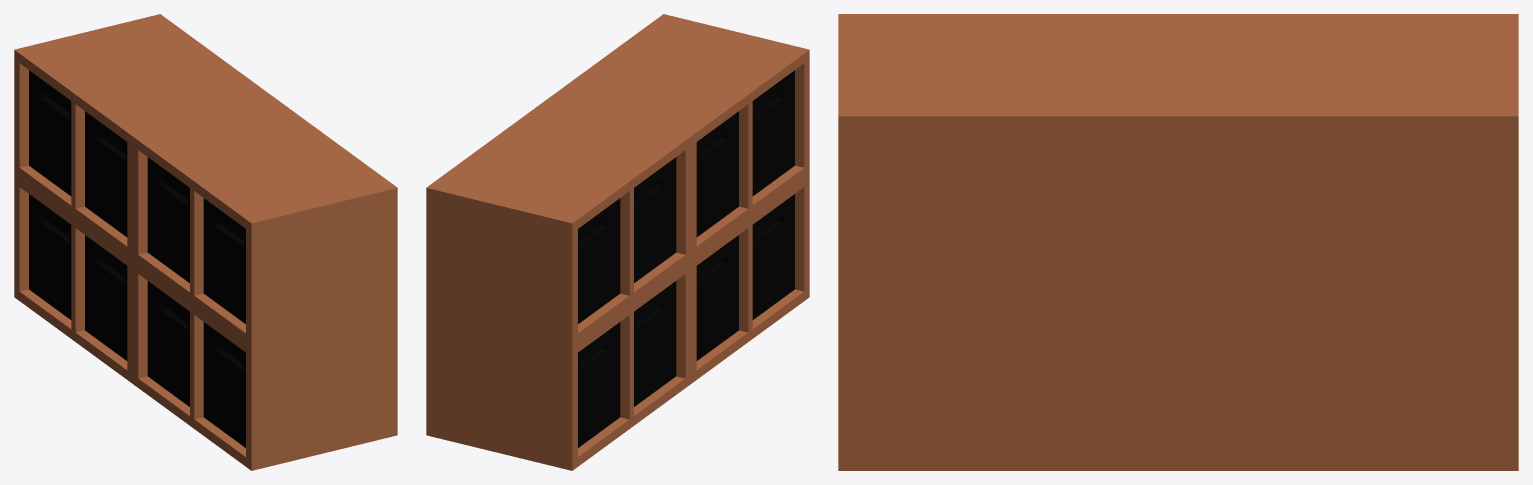
The model's file is VisioDrawers2x2.fbx.
The picture shows the model from 3 angles, left to right: view 1: azimuth 30°, elevation 25°; view 2: azimuth 150°, elevation 25°; view 3: azimuth 270°, elevation 25°; orthographic projection. The views are drawn at different scales.
Parts seen in each view (by area): view 1: Drawers2x2; view 2: Drawers2x2; view 3: Drawers2x2.
Part boxes in pixels (x1,y1,x2,y2): Drawers2x2: (14,14,397,470); Drawers2x2: (426,14,809,470); Drawers2x2: (838,14,1518,470).
Bounding box in the file's own units: 2.37 × 3.83 × 6.66.
